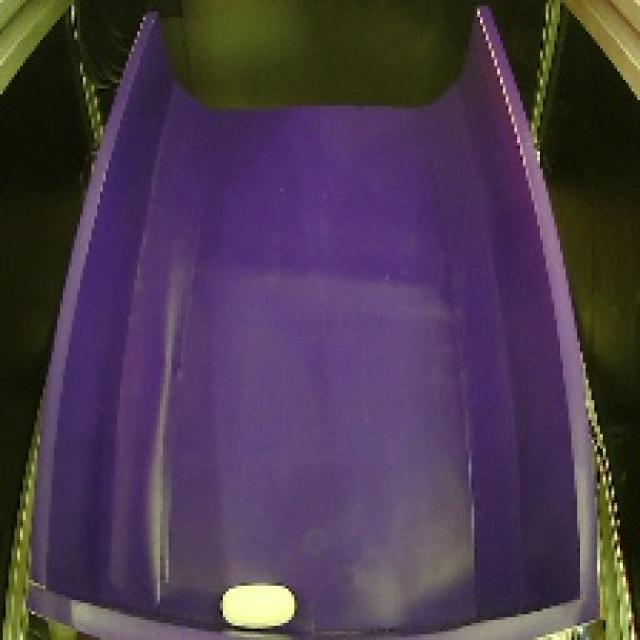small: (212, 574, 306, 638)
